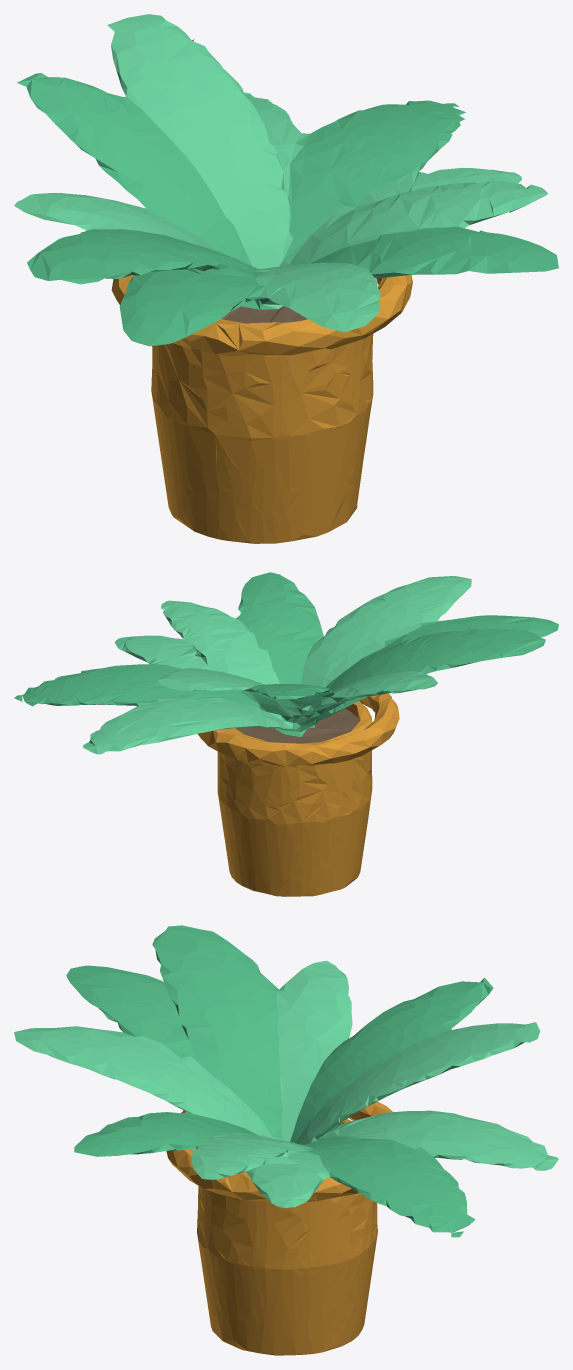
File: plant.glb
The picture shows the model from 3 angles, top to bottom: view 1: azimuth 30°, elevation 25°; view 2: azimuth 150°, elevation 25°; view 3: azimuth 270°, elevation 25°; orthographic projection. The views are drawn at different scales.
Visible parts, largest first — view 1: leaf2, leaf, pot, soil; view 2: leaf, pot, leaf2, soil; view 3: leaf2, leaf, pot.
Part boxes in pixels (x1,y1,x2,y2): leaf2: (17, 73, 558, 346); leaf: (14, 14, 547, 332); pot: (111, 275, 412, 543); soil: (221, 306, 307, 323); leaf: (82, 576, 471, 754); pot: (198, 693, 399, 896); leaf2: (14, 572, 558, 737); soil: (235, 708, 358, 743); leaf2: (66, 925, 493, 1237); leaf: (14, 960, 558, 1207); pot: (166, 1101, 392, 1355).
Size of the model in its own units: 1.23 by 0.7333 by 1.21.
